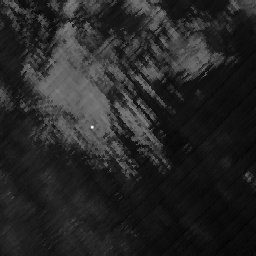Target: (89, 124, 95, 131)
